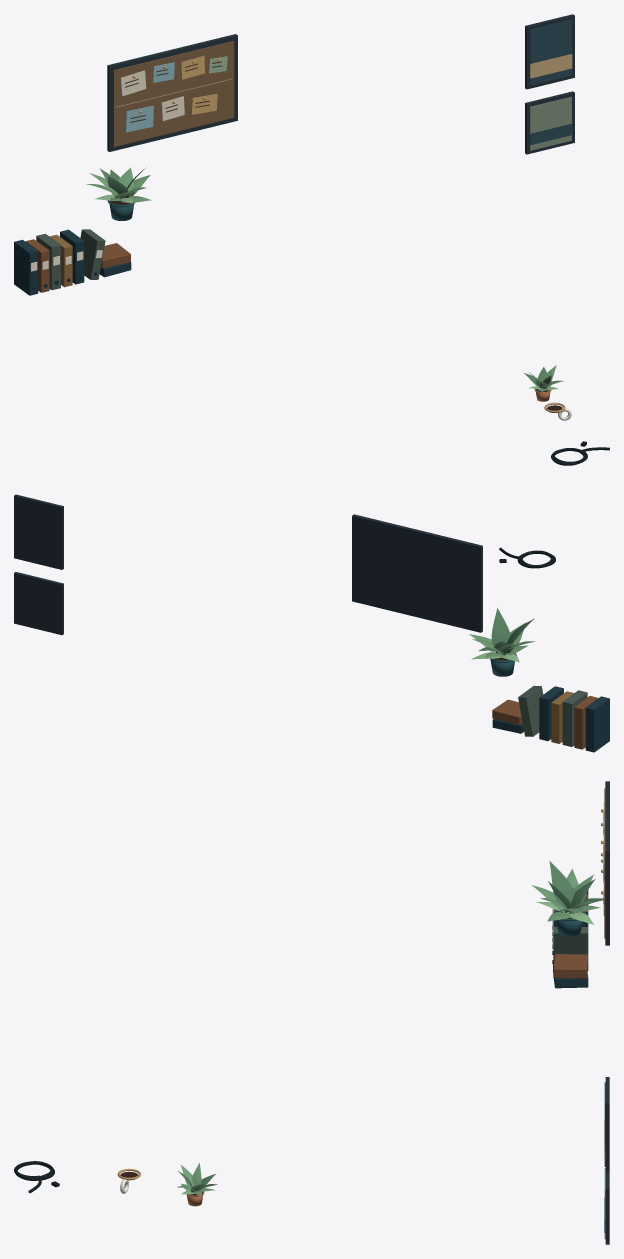
Rendered from werkstatt-deko.glb.
3 renders of one model, top to bottom at view 1: azimuth 30°, elevation 25°; view 2: azimuth 150°, elevation 25°; view 3: azimuth 270°, elevation 25°, orthographic. The views are drawn at different scales.
Parts seen in each view (by area): view 1: Pinnwand_Kork, Pinnwand_Rahmen, Druck_1_Blatt, Pflanze_Regal, Druck_2_Blatt, Ordner_1, Ordner_6, Druck_1_Rahmen, Druck_2_Rahmen, Ordner_5, Ordner_3, Druck_1_Band (+3 smaller); view 2: Pinnwand_Rahmen, Druck_1_Rahmen, Druck_2_Rahmen, Pflanze_Regal, Ordner_1, Ordner_6, Ordner_3, Ordner_5, Ordner_2, Ordner_4, Ordner_liegend_2, Kabel_Rolle; view 3: Pflanze_Regal, Ordner_6, Ordner_liegend_2, Pflanze_Tisch, Pinnwand_Rahmen.
Boxes of the visible parts, x1,y1,x2,y2 form: Pinnwand_Kork: [113, 41, 234, 146]; Pinnwand_Rahmen: [107, 34, 237, 151]; Druck_1_Blatt: [530, 19, 571, 85]; Pflanze_Regal: [86, 167, 151, 220]; Druck_2_Blatt: [530, 96, 571, 150]; Ordner_1: [14, 239, 38, 295]; Ordner_6: [80, 229, 105, 279]; Druck_1_Rahmen: [525, 14, 574, 89]; Druck_2_Rahmen: [525, 91, 574, 154]; Ordner_5: [60, 229, 84, 284]; Ordner_3: [36, 233, 60, 290]; Druck_1_Band: [530, 54, 572, 78]; Pinnwand_Rahmen: [352, 514, 482, 632]; Druck_1_Rahmen: [14, 494, 63, 569]; Druck_2_Rahmen: [14, 572, 63, 635]; Pflanze_Regal: [468, 608, 535, 676]; Ordner_1: [585, 696, 609, 752]; Ordner_6: [518, 685, 543, 736]; Ordner_3: [562, 690, 587, 746]; Ordner_5: [539, 686, 563, 741]; Ordner_2: [574, 696, 598, 749]; Ordner_4: [551, 691, 573, 743]; Ordner_liegend_2: [492, 699, 522, 725]; Kabel_Rolle: [499, 547, 555, 568]; Pflanze_Regal: [531, 861, 603, 936]; Ordner_6: [552, 927, 588, 971]; Ordner_liegend_2: [553, 954, 587, 978]; Pflanze_Tisch: [177, 1163, 217, 1206]; Pinnwand_Rahmen: [605, 781, 609, 945].
Size of the model in its own units: 10.88 by 4.72 by 8.88.
